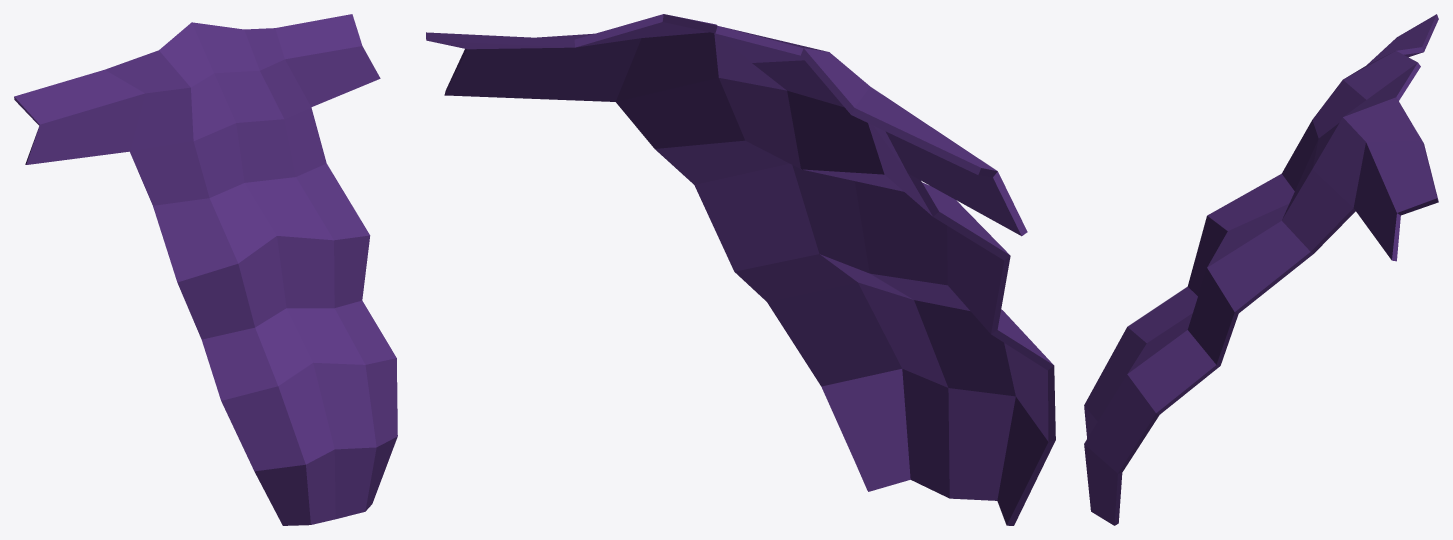
The model's file is M_sciarpa.fbx.
3 views of the same model, side by side, from view 1: azimuth 30°, elevation 25°; view 2: azimuth 150°, elevation 25°; view 3: azimuth 270°, elevation 25° (orthographic). The views are drawn at different scales.
Parts seen in each view (by area): view 1: sciarpa.001; view 2: sciarpa.001; view 3: sciarpa.001.
Part boxes in pixels (<box>): sciarpa.001: <box>14,14,397,525</box>; sciarpa.001: <box>426,14,1055,525</box>; sciarpa.001: <box>1084,14,1438,525</box>.
Bounding box in the file's own units: 13.41 × 14.22 × 10.41.
